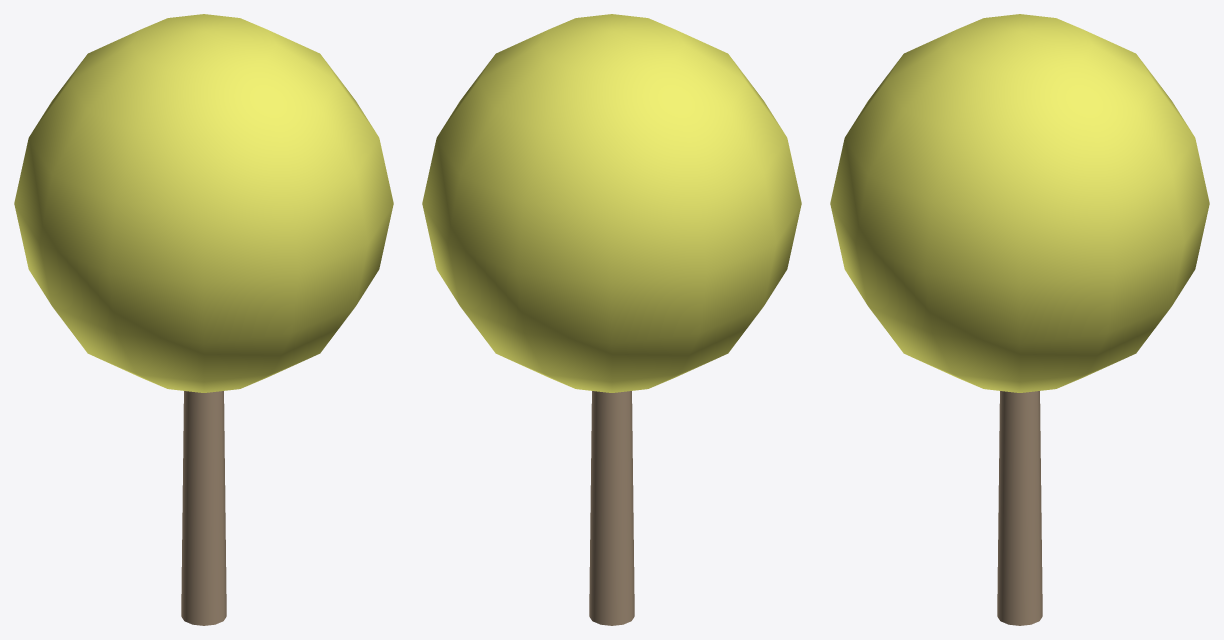
The model's file is tree_lim_xet.glb.
The picture shows the model from 3 angles, left to right: view 1: azimuth 30°, elevation 25°; view 2: azimuth 150°, elevation 25°; view 3: azimuth 270°, elevation 25°; orthographic projection.
Bounding box in the file's own units: 2 × 3.4 × 2.
